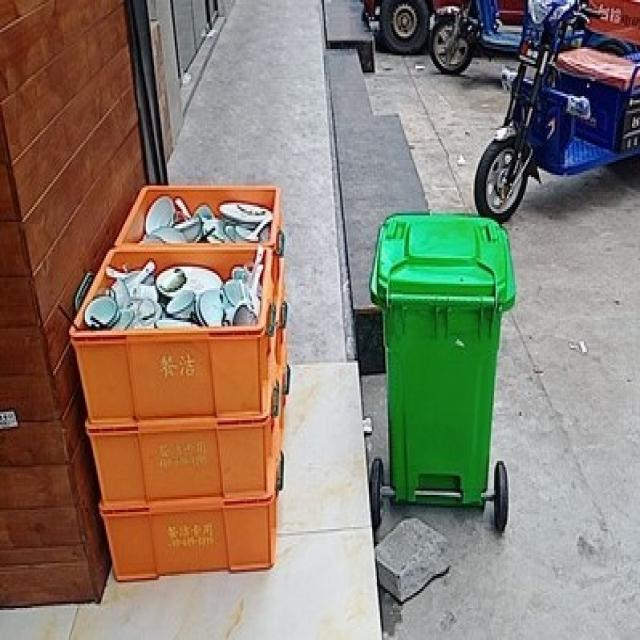ash bin: (366, 211, 513, 531)
tricycle: (467, 0, 637, 218)
